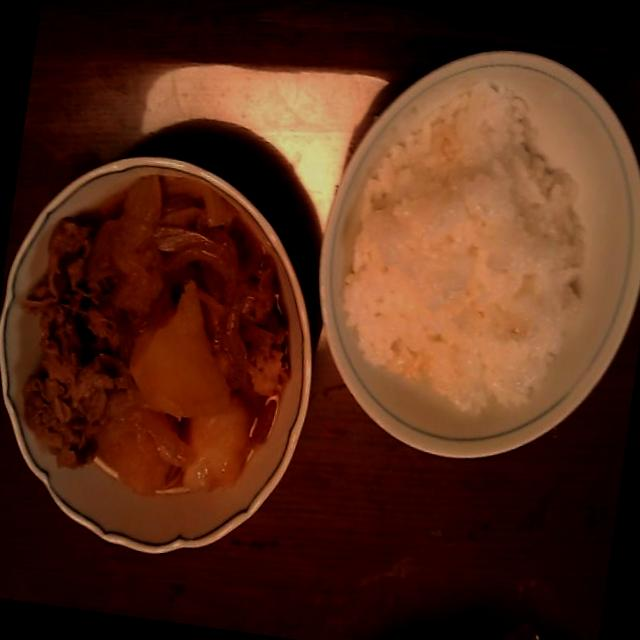Rice: (306, 63, 616, 434)
